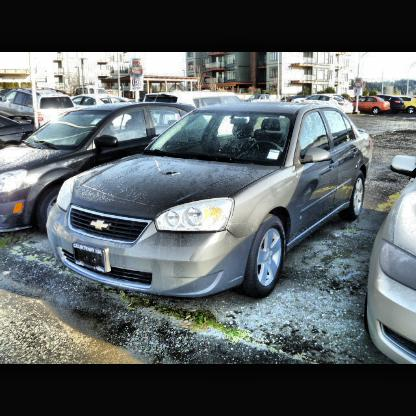Chevrolet Malibu Sedan 2007: (47, 103, 374, 300)
